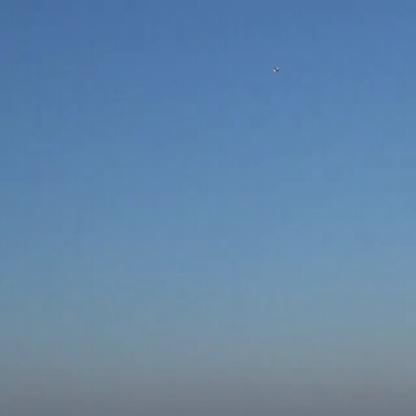CIV_Plane: (269, 64, 282, 80)
